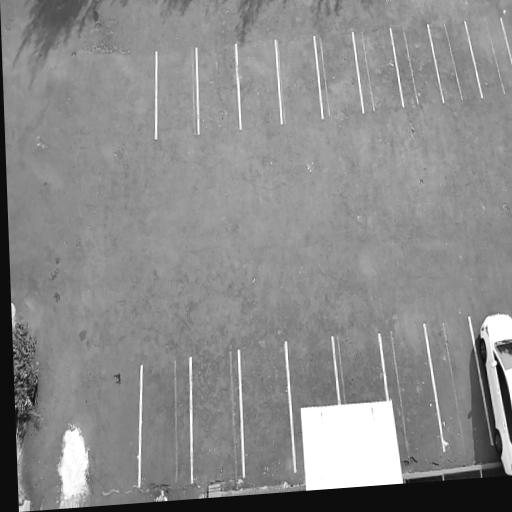Car: (469, 310, 512, 475)
Space Available: (424, 321, 493, 448), (382, 324, 444, 451), (238, 342, 295, 475), (189, 348, 244, 480), (139, 355, 192, 484), (428, 20, 482, 101), (390, 23, 444, 104), (353, 26, 404, 111), (315, 32, 364, 117), (236, 38, 282, 127), (275, 35, 321, 122), (197, 43, 241, 133), (155, 49, 200, 137), (287, 334, 339, 408), (334, 332, 388, 402), (465, 17, 512, 97), (500, 16, 512, 65)
